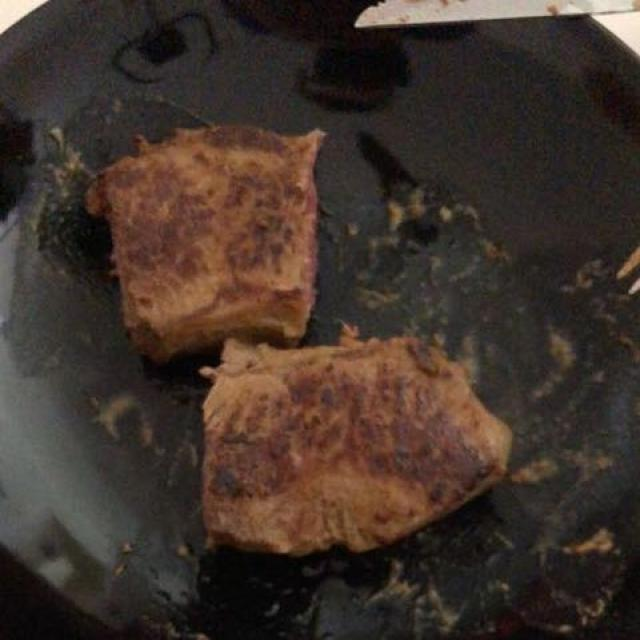beef: (85, 129, 527, 549)
